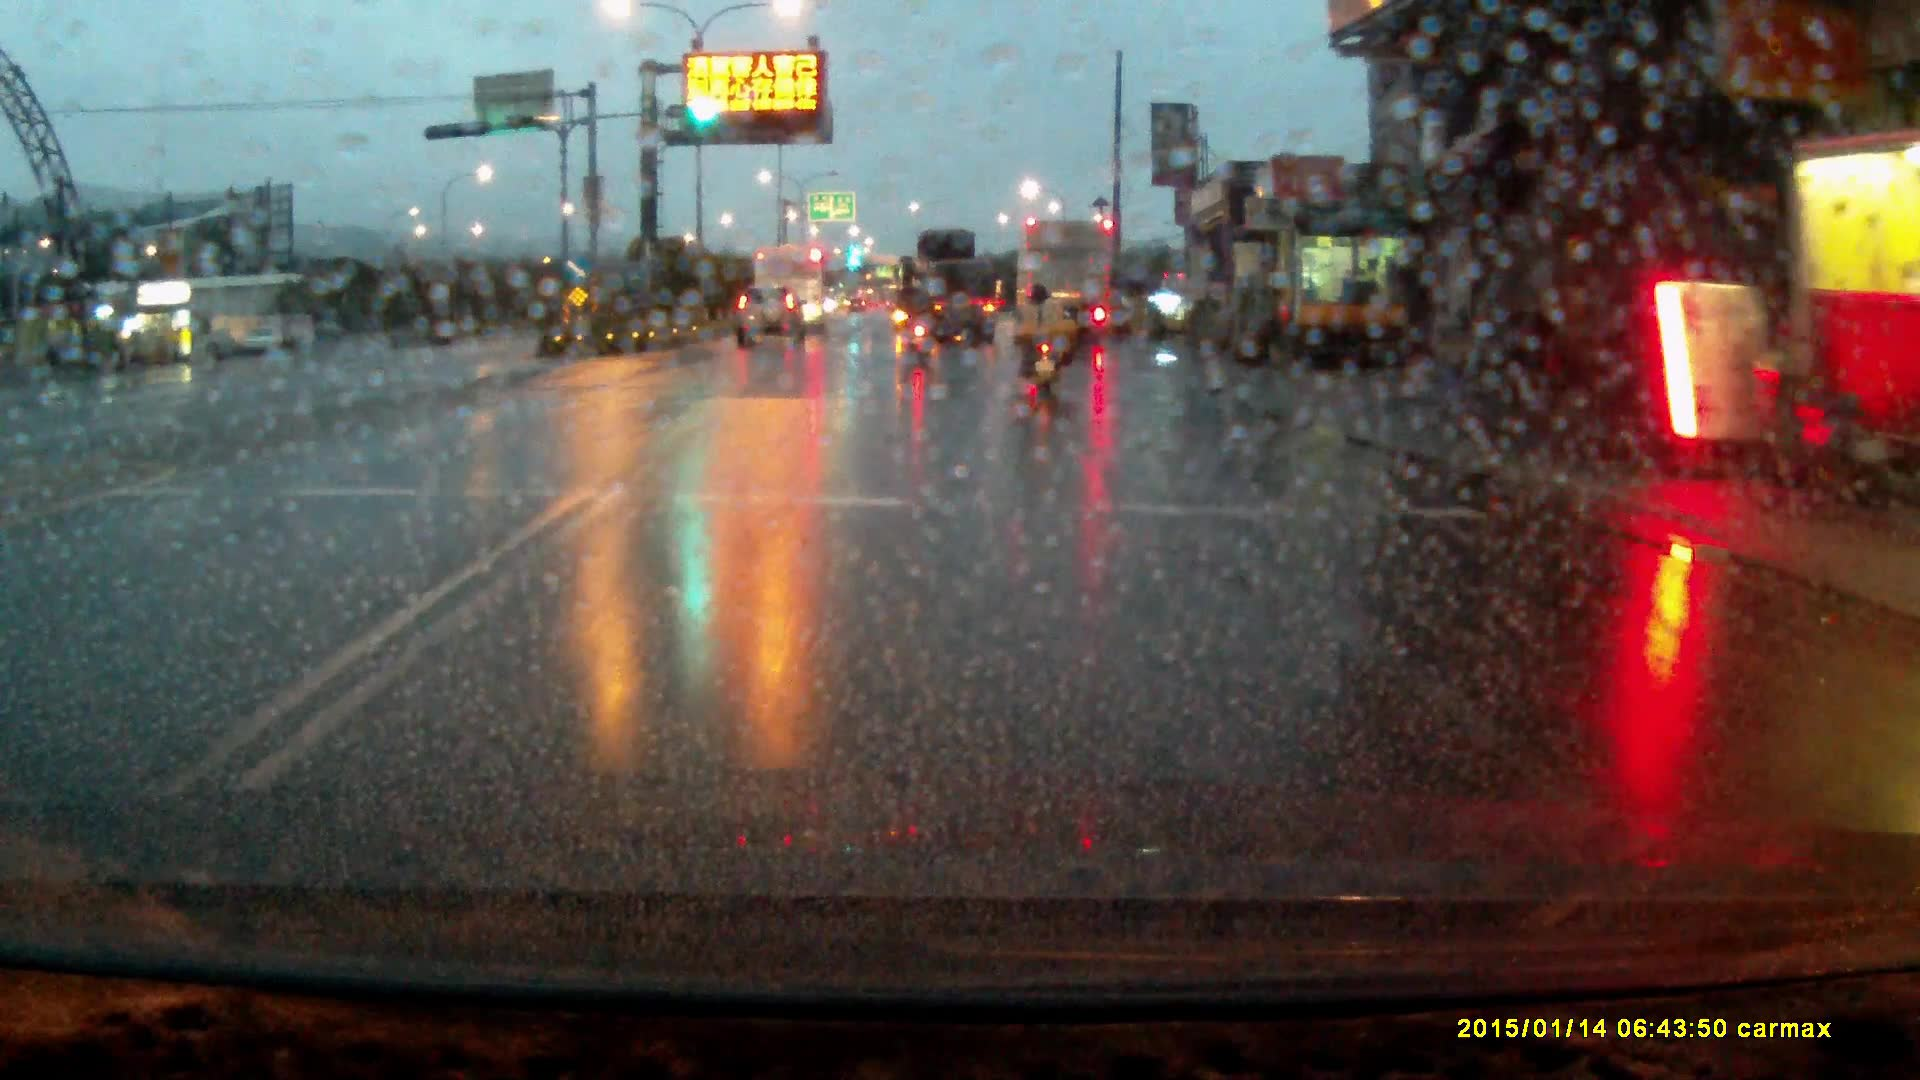rider: (1018, 287, 1074, 408), (901, 280, 939, 368)
vehicle: (1016, 219, 1117, 348), (904, 232, 998, 347), (755, 246, 829, 331), (735, 290, 809, 356)
